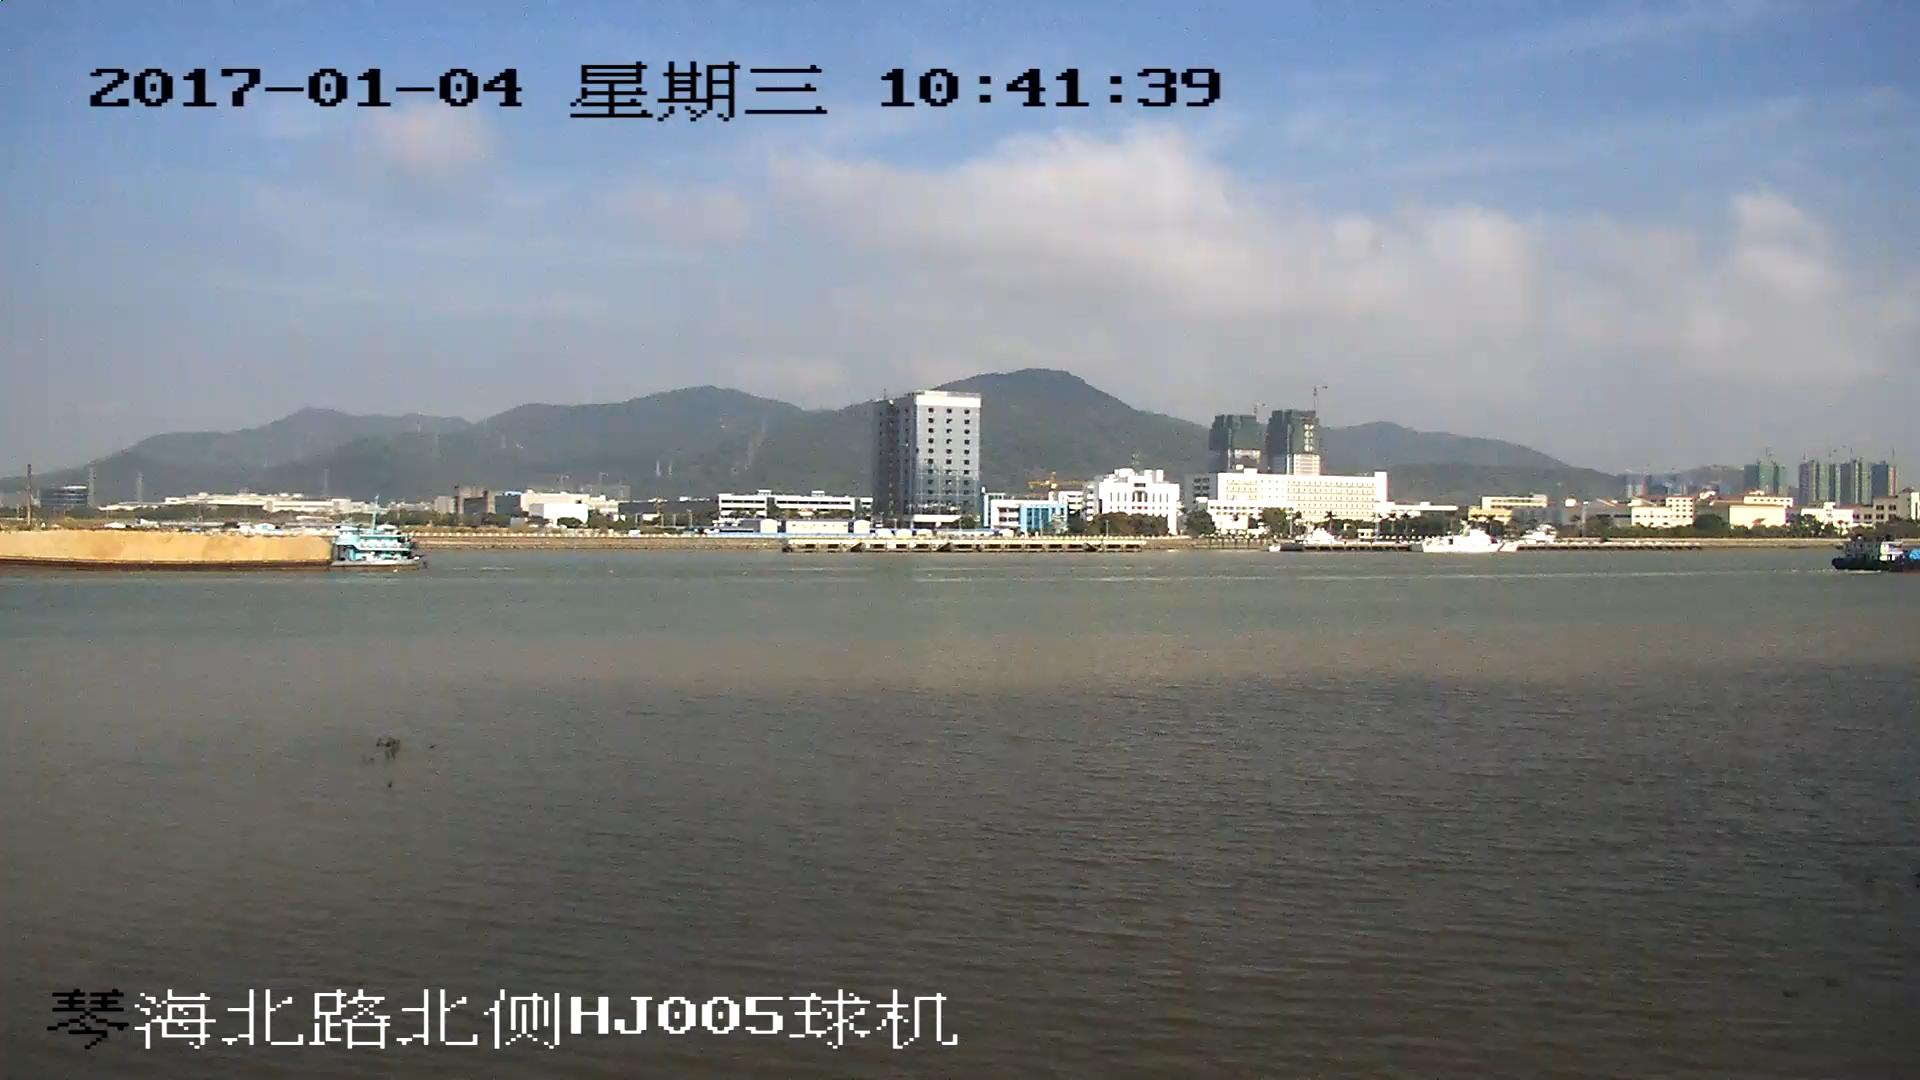ore carrier: (1, 528, 422, 574)
